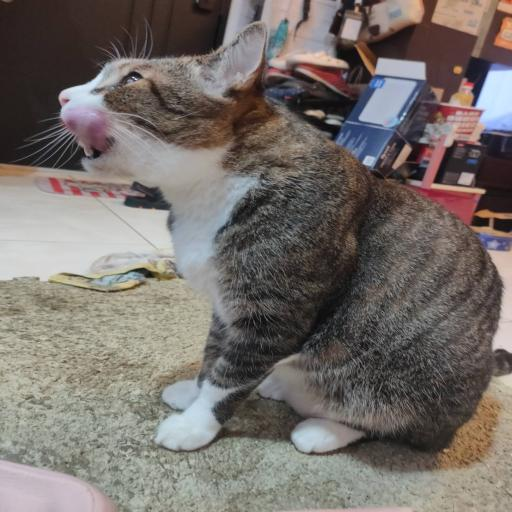cat: (62, 62, 480, 450)
